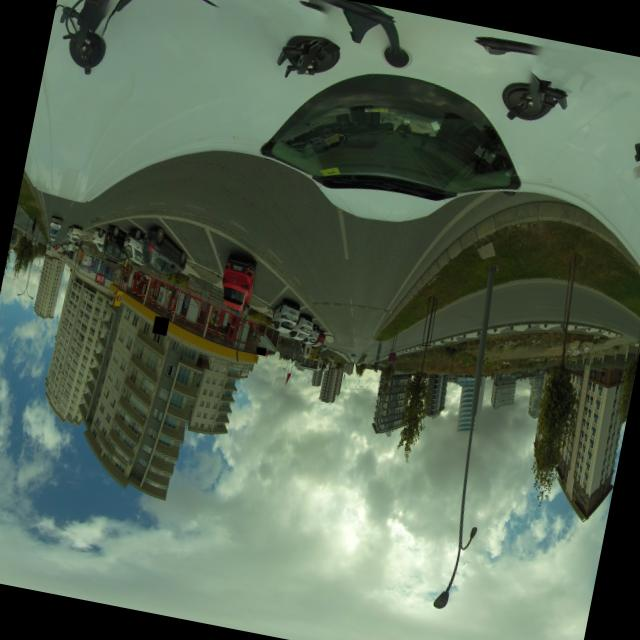SignStore: (152, 315, 168, 334), (255, 346, 265, 355)
